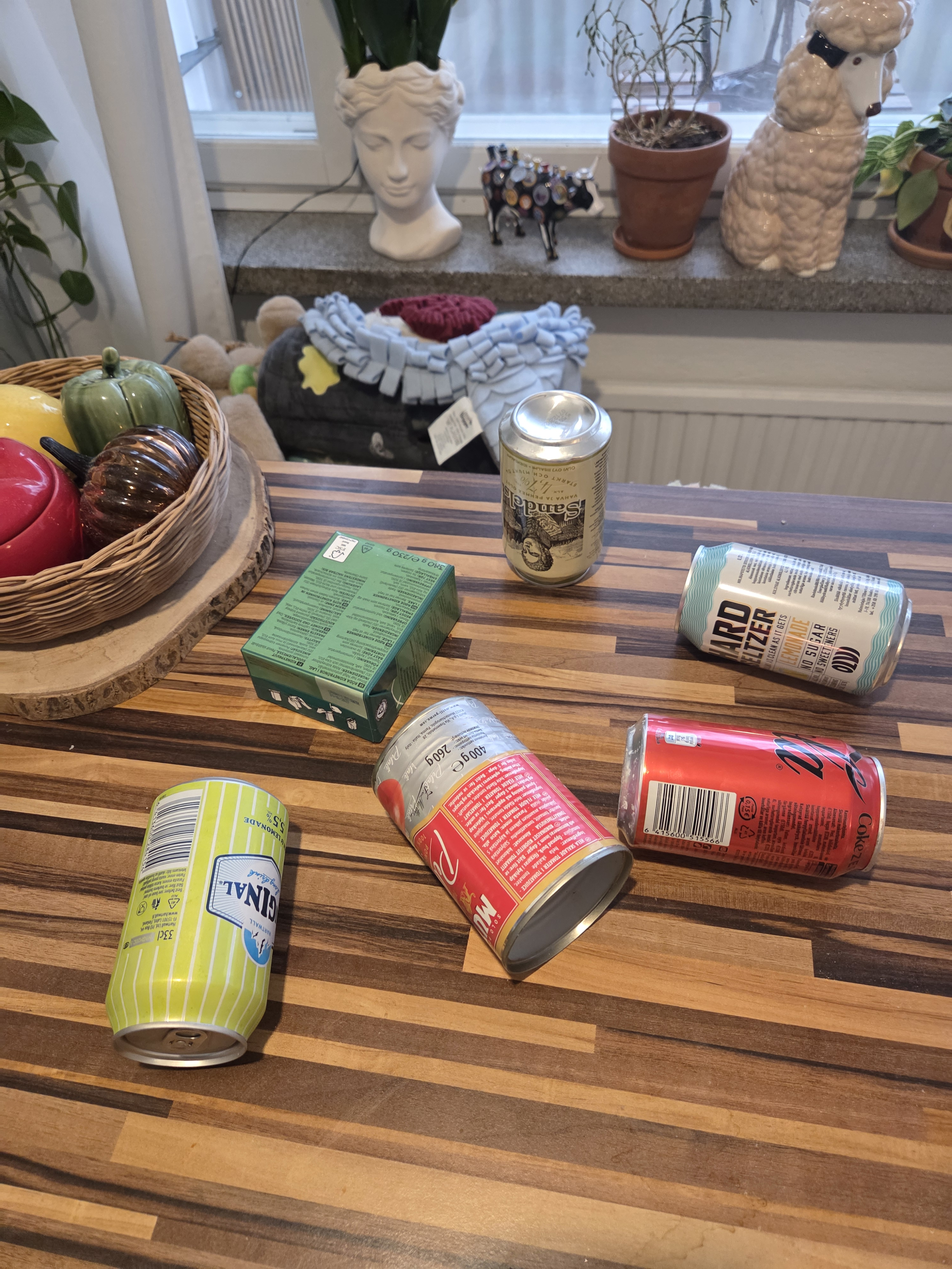Konservburk: (370, 696, 636, 983)
Pantburk: (103, 777, 292, 1071), (618, 712, 887, 881), (674, 540, 915, 705), (497, 390, 614, 589)
